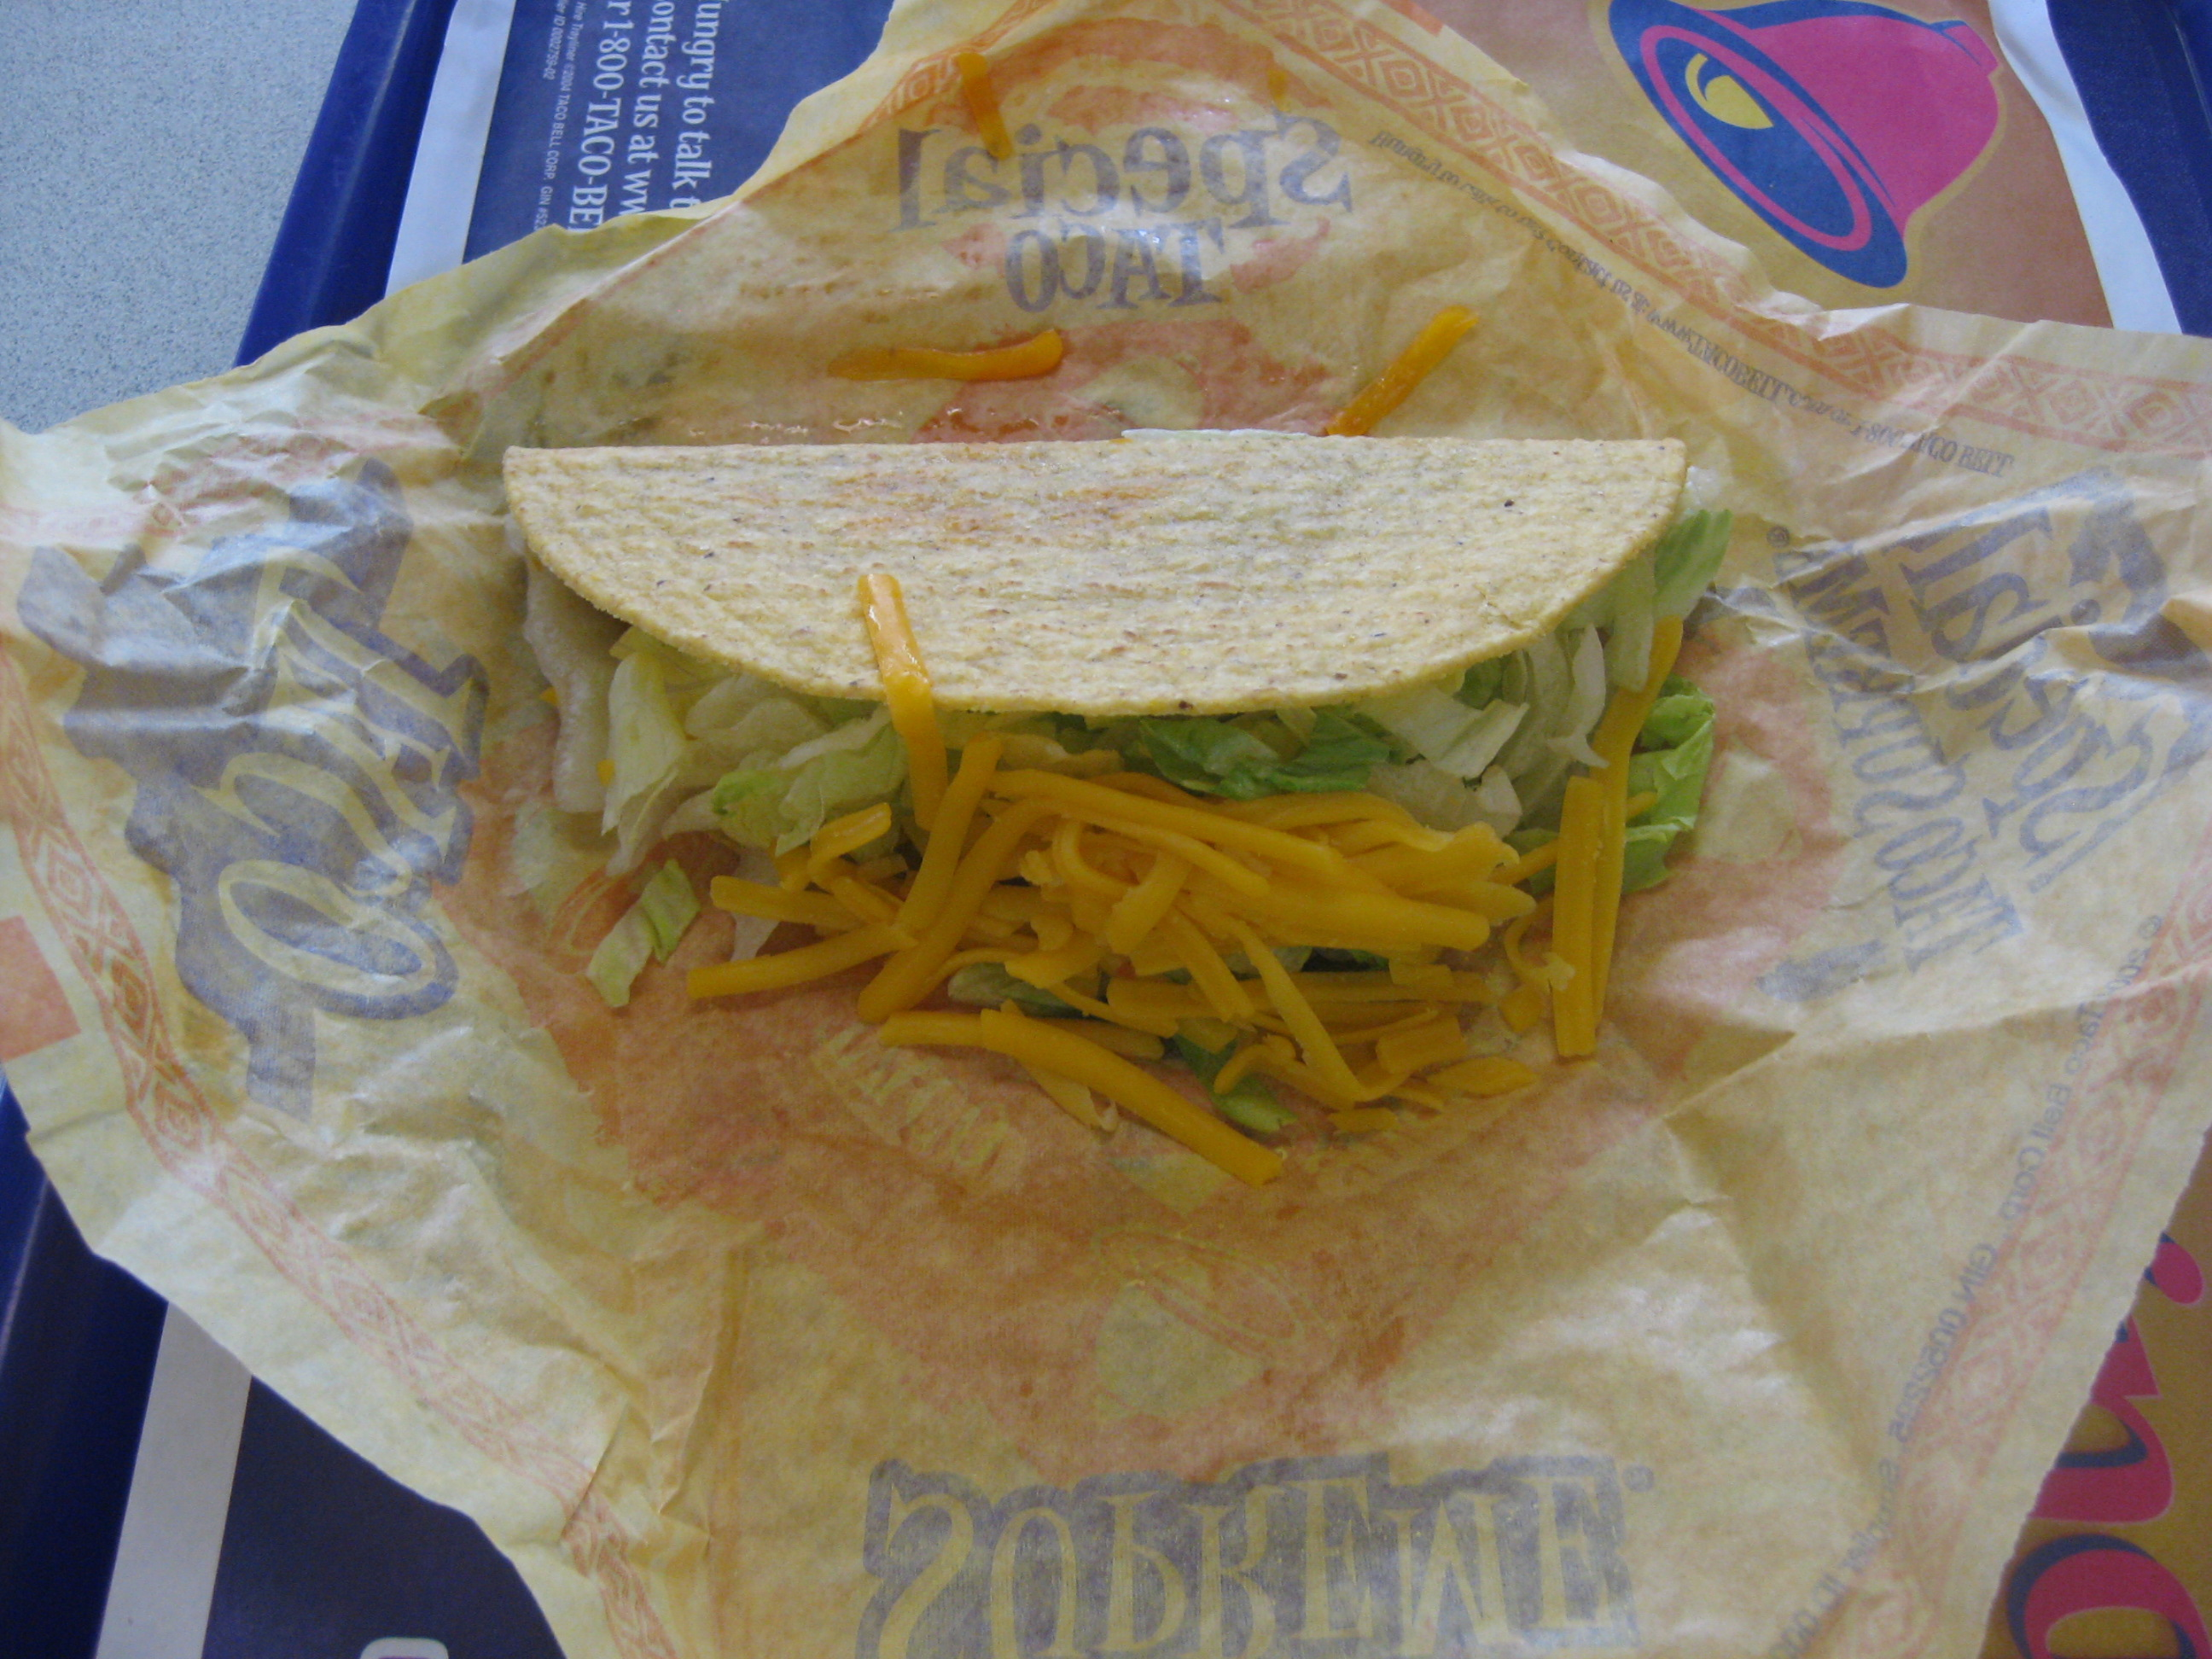taco: (464, 370, 1885, 1027)
